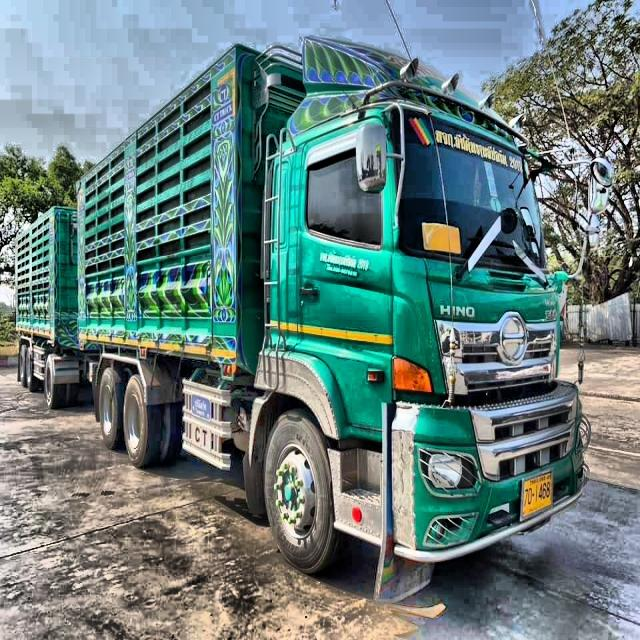trailer: (15, 33, 597, 575)
